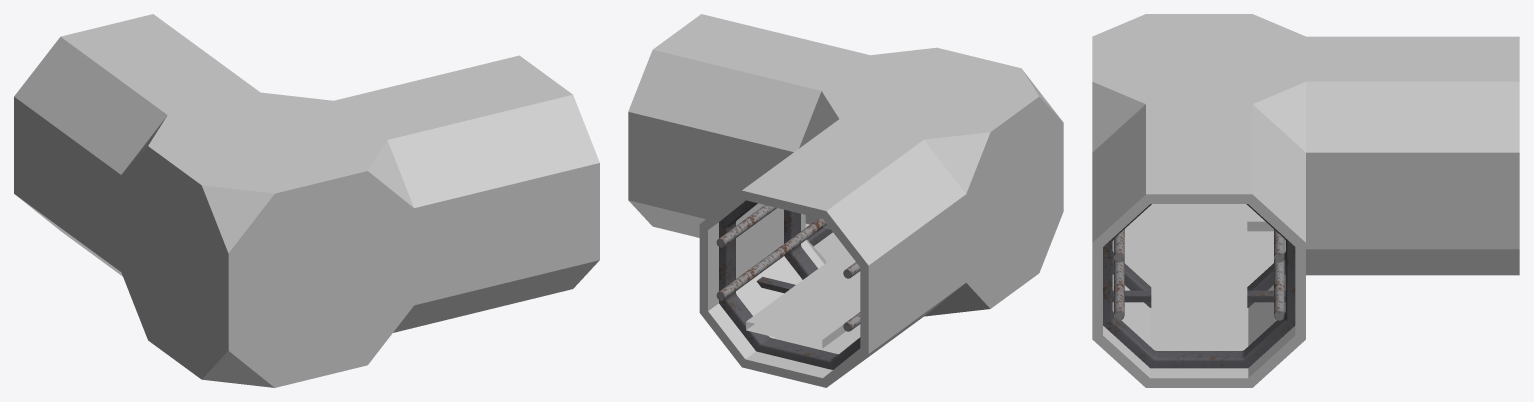
File: ProcGen_LTurn.fbx
The picture shows the model from 3 angles, left to right: view 1: azimuth 30°, elevation 25°; view 2: azimuth 150°, elevation 25°; view 3: azimuth 270°, elevation 25°; orthographic projection. The views are drawn at different scales.
Visible parts, largest first — view 1: LTurn; view 2: LTurn; view 3: LTurn.
Part boxes in pixels (box(x1,y1,x2,y2)): LTurn: box(14, 14, 599, 387); LTurn: box(628, 14, 1063, 387); LTurn: box(1092, 14, 1519, 387).
Bounding box in the file's own units: 1000 × 500 × 1000.
